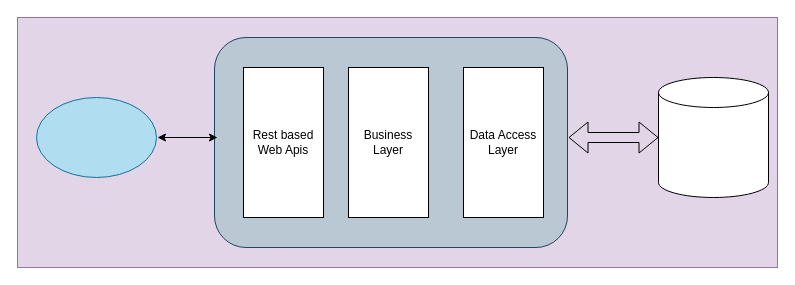
Image size: 795x285. Some labels were removed from this diagram. Here are the shapes that lost their labels. From the top down, the centre of each, then its label:
At (96,137): "Browser Angular 11".
At (713,137): "My SQL".
